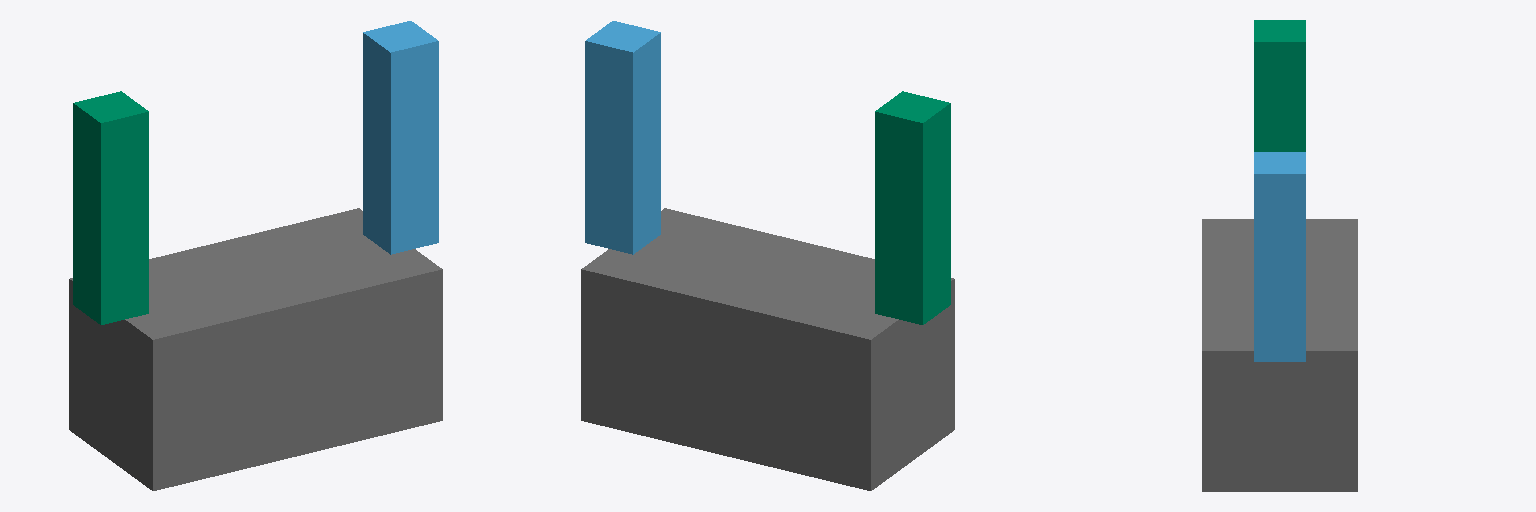
The robot description file, URDF, robot "gripper":
<?xml version="1.0" ?>
<robot name="gripper">
  <link name="baseLink">
    <inertial>
      <origin rpy="0 0 0" xyz="0 0 0"/>
       <mass value="0.001"/>
       <inertia ixx="0.01" ixy="0" ixz="0" iyy="0.01" iyz="0" izz="0.01"/>
    </inertial>
    <visual>
      <origin rpy="0 0 0" xyz="0 0.0 0.075"/>
      <geometry>
			<box size="0.3 0.15 0.15"/>
      </geometry>
       <material name="grey">
        <color rgba="0.5 0.5 0.5 1.0"/>
      </material>
    </visual>
    <collision>
      <origin rpy="0 0 0" xyz="0 0.0 0.075"/>
      <geometry>
			<box size="0.3 0.15 0.15"/>
      </geometry>
    </collision>
  </link>
  <link name="leftfinger">
      <contact>
      <friction_anchor/>
      <stiffness value="30000.0"/>
      <damping value="1000.0"/>
      <spinning_friction value="0.1"/>
      <lateral_friction value="1.0"/>
    </contact>
  	<inertial>
      <origin rpy="0 0 0" xyz="0 0 0"/>
       <mass value="0.1"/>
       <inertia ixx="0.1" ixy="0" ixz="0" iyy="0.1" iyz="0" izz="0.1"/>
    </inertial>
    <visual>
      <origin rpy="0 0 0" xyz="0.1 0.0 0.0"/>
      <geometry>
        <box size="0.2 0.05 0.05"/>
      </geometry>
    </visual>
    <collision>
      <origin rpy="0 0 0" xyz="0.1 0 0.0"/>
      <geometry>
        <box size="0.2 0.05 0.05"/>
      </geometry>
      <material name="white"/>
    </collision>
  </link>
  <link name="rightfinger">
      <contact>
      <friction_anchor/>
      <stiffness value="30000.0"/>
      <damping value="1000.0"/>
      <spinning_friction value="0.1"/>
      <lateral_friction value="1.0"/>
    </contact>
  	<inertial>
      <origin rpy="0 0 0" xyz="0 0 0"/>
       <mass value="0.1"/>
       <inertia ixx="0.1" ixy="0" ixz="0" iyy="0.1" iyz="0" izz="0.1"/>
    </inertial>
      <geometry>
		<box size="0.2 0.05 0.05"/>
      </geometry>
      <material name="white"/>
    <visual>
      <origin rpy="0 0 0" xyz="0.1 0.0 0.0"/>
      <geometry>
        <box size="0.2 0.05 0.05"/>
      </geometry>
    </visual>
    <collision>
      <origin rpy="0 0 0" xyz="0.1 0.0 0.0"/>
      <geometry>
        <box size="0.2 0.05 0.05"/>
      </geometry>
      <material name="white"/>
    </collision>
  </link>
  <joint name="finger_joint1" type="prismatic">
    <parent link="baseLink"/>
    <child link="leftfinger"/>
    <origin rpy="0 -1.57079632679 0" xyz="0.15 0 0.15"/>
    <axis xyz="0 0 1"/>
    <limit effort="200" lower="0.0" upper="0.11" velocity="0.2"/>
  </joint>
  <joint name="finger_joint2" type="prismatic">
    <parent link="baseLink"/>
    <child link="rightfinger"/>
    <origin rpy="0 -1.57079632679 0" xyz="-0.15 0 0.15"/>
    <axis xyz="0 0 -1"/>
    <limit effort="200" lower="-0" upper="0.11" velocity="0.2"/>
    <mimic joint="finger_joint1"/>
  </joint>

  <joint name="gripping_trafo" type="fixed">
		<parent link="baseLink"/>
		<child link="tcp"/>
		<origin xyz="0 0.0 0.25" rpy="0 0 0"/>
  </joint>

  <link name="tcp">

  </link>

</robot>

--- Render facts (derived) ---
The picture shows the robot from 3 angles, left to right: view 1: azimuth 30°, elevation 25°; view 2: azimuth 150°, elevation 25°; view 3: azimuth 270°, elevation 25°; orthographic projection.
Robot: gripper — 4 links, 3 joints (2 prismatic, 1 fixed); root link baseLink; default pose: all joints at 0.
Visible links, largest first — view 1: baseLink, leftfinger, rightfinger; view 2: baseLink, leftfinger, rightfinger; view 3: baseLink, leftfinger, rightfinger.
Link boxes in pixels (x1,y1,x2,y2): baseLink: (69, 208, 442, 490); leftfinger: (363, 21, 438, 254); rightfinger: (73, 91, 148, 324); baseLink: (581, 208, 954, 490); leftfinger: (585, 21, 660, 254); rightfinger: (875, 91, 950, 324); baseLink: (1202, 219, 1357, 491); leftfinger: (1254, 152, 1305, 361); rightfinger: (1254, 20, 1305, 151).
Size in the robot's own frame: 0.35 by 0.15 by 0.35 metres.
Geometry: primitives only (box / cylinder / sphere), no mesh files.